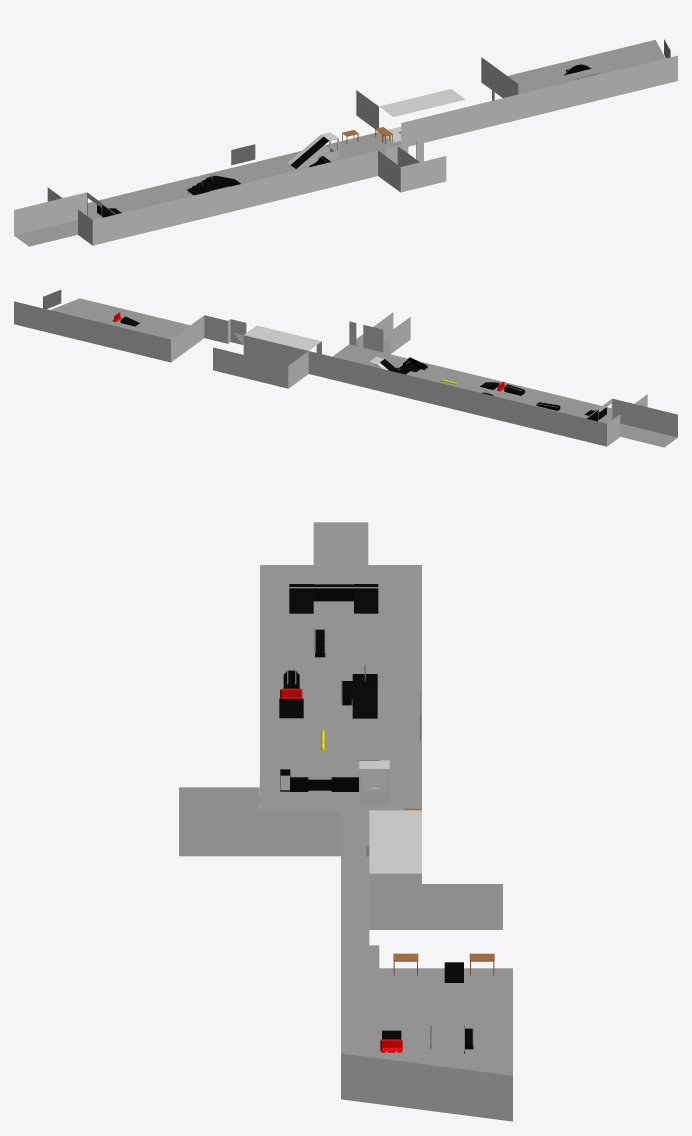
3 views of the same model, one above another, from view 1: azimuth 30°, elevation 25°; view 2: azimuth 150°, elevation 25°; view 3: azimuth 270°, elevation 25° (orthographic). The views are drawn at different scales.
Visible parts, largest first — view 1: paredes, pistaprincipal, pistaclases, sectorchill, entrada, muestra, Solidos; view 2: paredes, pistaprincipal, pistaclases, sectorchill, entrada; view 3: paredes, pistaprincipal, pistaclases, piso, sectorchill, entrada, escaleraconbaranda.
Boxes of the visible parts, left/top/right/bottom form: paredes: left=14, top=55, right=677, bottom=245; pistaprincipal: left=87, top=151, right=309, bottom=219; pistaclases: left=508, top=40, right=665, bottom=93; sectorchill: left=324, top=132, right=397, bottom=161; entrada: left=14, top=220, right=77, bottom=246; muestra: left=231, top=39, right=670, bottom=165; Solidos: left=206, top=136, right=328, bottom=192; paredes: left=14, top=301, right=677, bottom=446; pistaprincipal: left=406, top=361, right=611, bottom=423; pistaclases: left=50, top=298, right=189, bottom=339; sectorchill: left=332, top=344, right=407, bottom=368; entrada: left=620, top=423, right=677, bottom=447; paredes: left=179, top=760, right=512, bottom=1121; pistaprincipal: left=260, top=586, right=421, bottom=791; pistaclases: left=341, top=968, right=512, bottom=1075; piso: left=260, top=565, right=421, bottom=968; sectorchill: left=260, top=792, right=421, bottom=856; entrada: left=313, top=522, right=368, bottom=584; escaleraconbaranda: left=352, top=683, right=377, bottom=718.
Size of the model in its own units: 70 by 2.5 by 16.5.
Materials: 10 (1 with a texture image).
